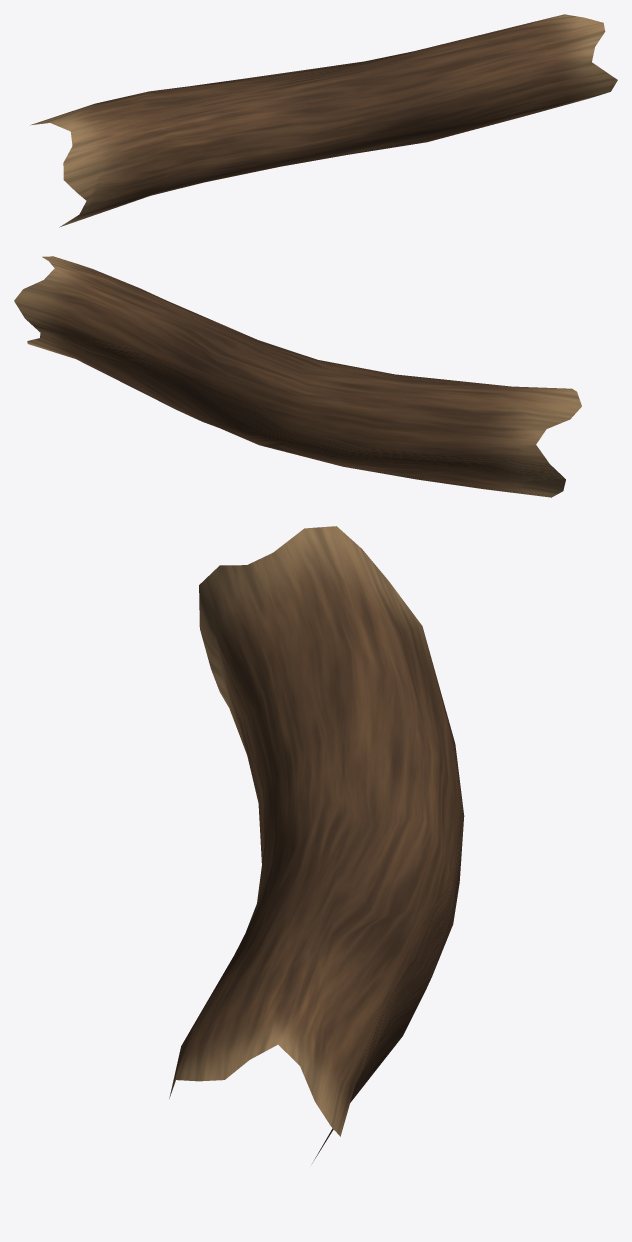
File: log_fallen_01_lod1.glb
3 renders of one model, top to bottom at view 1: azimuth 30°, elevation 25°; view 2: azimuth 150°, elevation 25°; view 3: azimuth 270°, elevation 25°, orthographic. The views are drawn at different scales.
Parts seen in each view (by area): view 1: Log_Fallen_01.001; view 2: Log_Fallen_01.001; view 3: Log_Fallen_01.001.
Part boxes in pixels (x1,y1,x2,y2): Log_Fallen_01.001: (30, 14, 617, 227); Log_Fallen_01.001: (14, 256, 581, 497); Log_Fallen_01.001: (169, 526, 464, 1164).
Bounding box in the file's own units: 2.41 × 0.4221 × 0.5671.
1 material, 1 textured.
